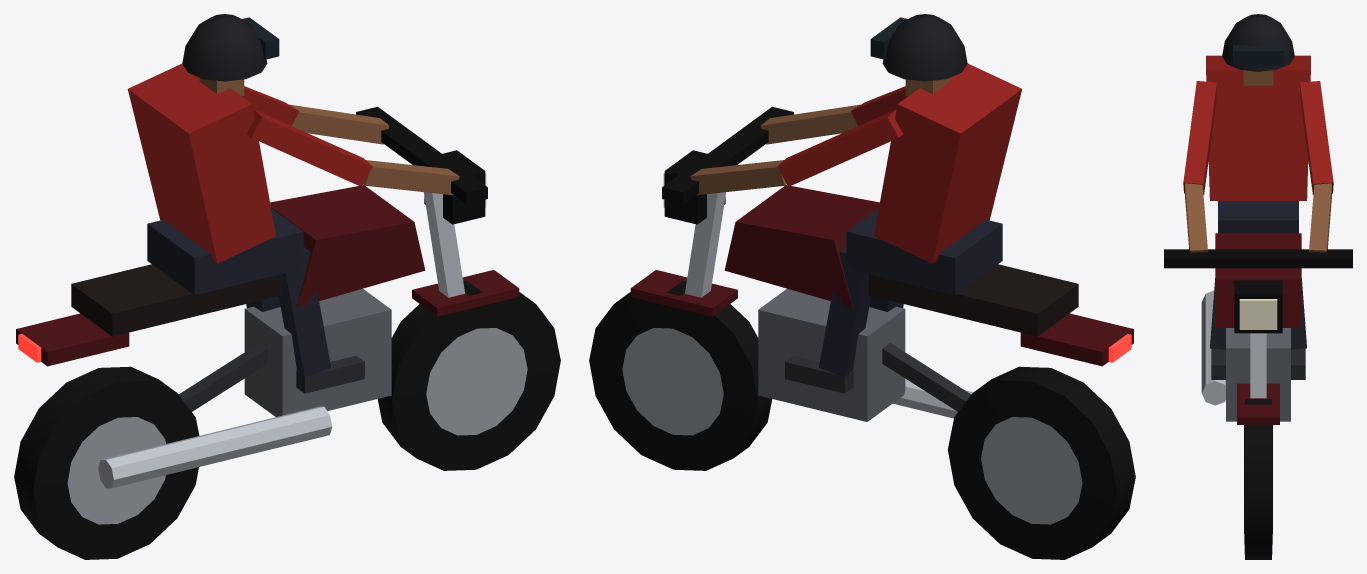
File: motorcycle.glb
The picture shows the model from 3 angles, left to right: view 1: azimuth 30°, elevation 25°; view 2: azimuth 150°, elevation 25°; view 3: azimuth 270°, elevation 25°; orthographic projection. The views are drawn at different scales.
Parts seen in each view (by area): view 1: motorcycle_body, wheel_r.001, wheel_f.001; view 2: motorcycle_body, wheel_r.001, wheel_f.001; view 3: motorcycle_body, wheel_f.001.
Part boxes in pixels (box(x1,y1,x2,y2)): motorcycle_body: box(16, 14, 519, 488); wheel_r.001: box(14, 366, 199, 559); wheel_f.001: box(377, 281, 560, 470); motorcycle_body: box(630, 14, 1133, 421); wheel_r.001: box(947, 366, 1135, 559); wheel_f.001: box(589, 281, 772, 470); motorcycle_body: box(1164, 14, 1352, 424); wheel_f.001: box(1244, 399, 1272, 559).
Bounding box in the file's own units: 1.94 × 1.77 × 0.7.
2 materials, 1 textured.
